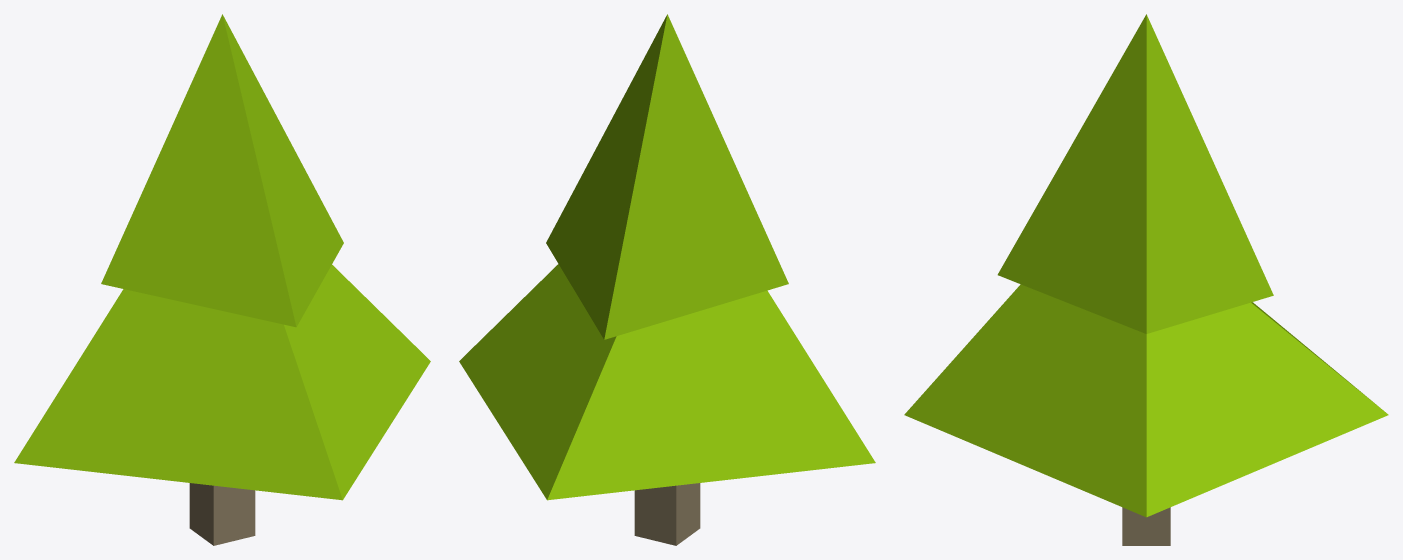
Rendered from pine_skewed_13.fbx.
The picture shows the model from 3 angles, left to right: view 1: azimuth 30°, elevation 25°; view 2: azimuth 150°, elevation 25°; view 3: azimuth 270°, elevation 25°; orthographic projection.
Parts seen in each view (by area): view 1: pine_skewed_13; view 2: pine_skewed_13; view 3: pine_skewed_13.
Part boxes in pixels (bbox=[...]): pine_skewed_13: bbox=[14, 14, 430, 545]; pine_skewed_13: bbox=[459, 14, 875, 545]; pine_skewed_13: bbox=[904, 14, 1388, 545].
Size of the model in its own units: 121 by 144 by 121.
